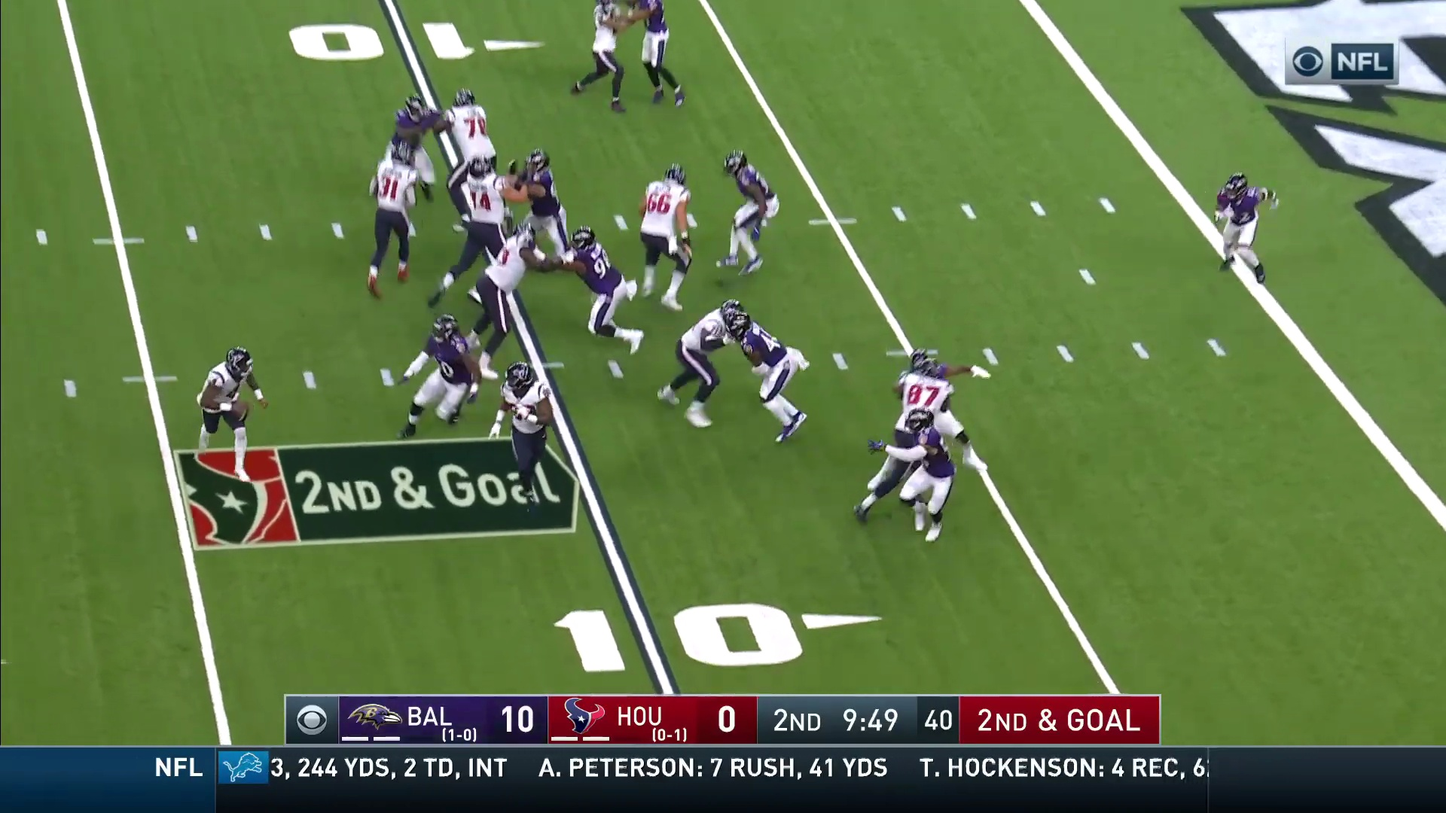Player: (368, 133, 416, 296), (410, 314, 477, 426), (894, 349, 960, 460), (641, 164, 692, 306), (447, 89, 501, 223), (502, 362, 552, 501), (722, 150, 778, 272), (899, 421, 955, 540), (449, 143, 504, 257), (383, 95, 441, 201), (1215, 173, 1269, 285), (521, 149, 568, 261), (592, 0, 625, 81)
